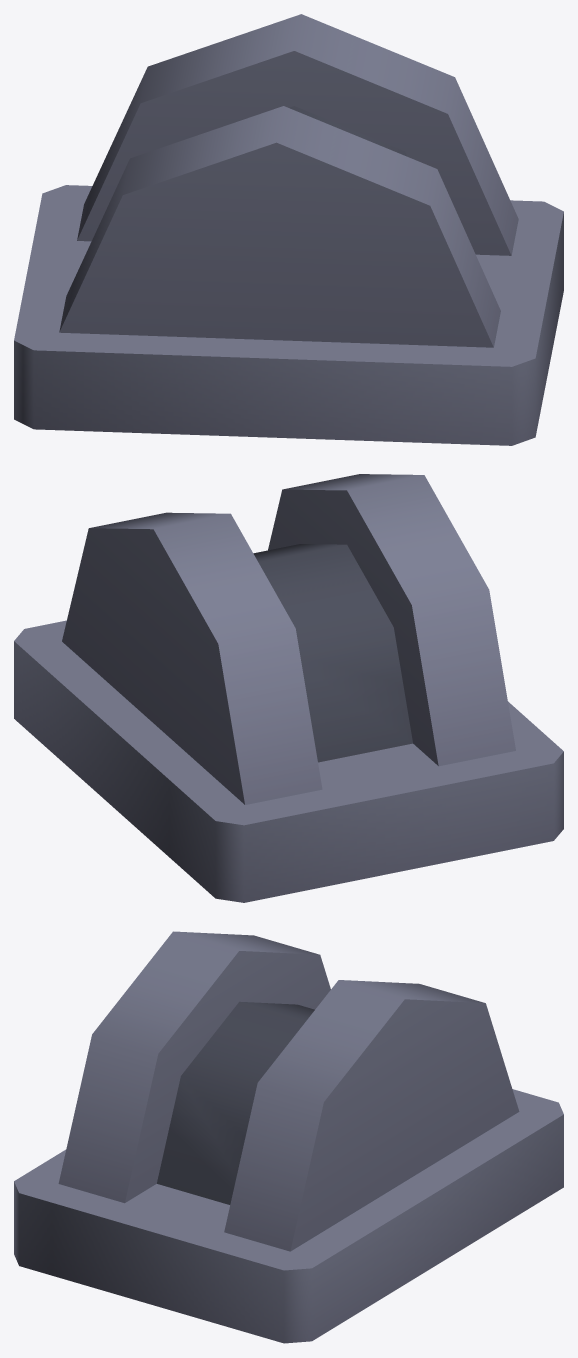
The model's file is n5_n5_n5_lev5.glb.
3 renders of one model, top to bottom at view 1: azimuth 30°, elevation 25°; view 2: azimuth 150°, elevation 25°; view 3: azimuth 270°, elevation 25°, orthographic. The views are drawn at different scales.
Visible parts, largest first — view 1: n5_n5_n5_lev5; view 2: n5_n5_n5_lev5; view 3: n5_n5_n5_lev5.
Part boxes in pixels (x1,y1,x2,y2): n5_n5_n5_lev5: (14,14,563,445); n5_n5_n5_lev5: (14,474,563,902); n5_n5_n5_lev5: (14,931,563,1343).
Size of the model in its own units: 1.54 by 0.7463 by 1.46.
Materials: 1 (1 with a texture image).
